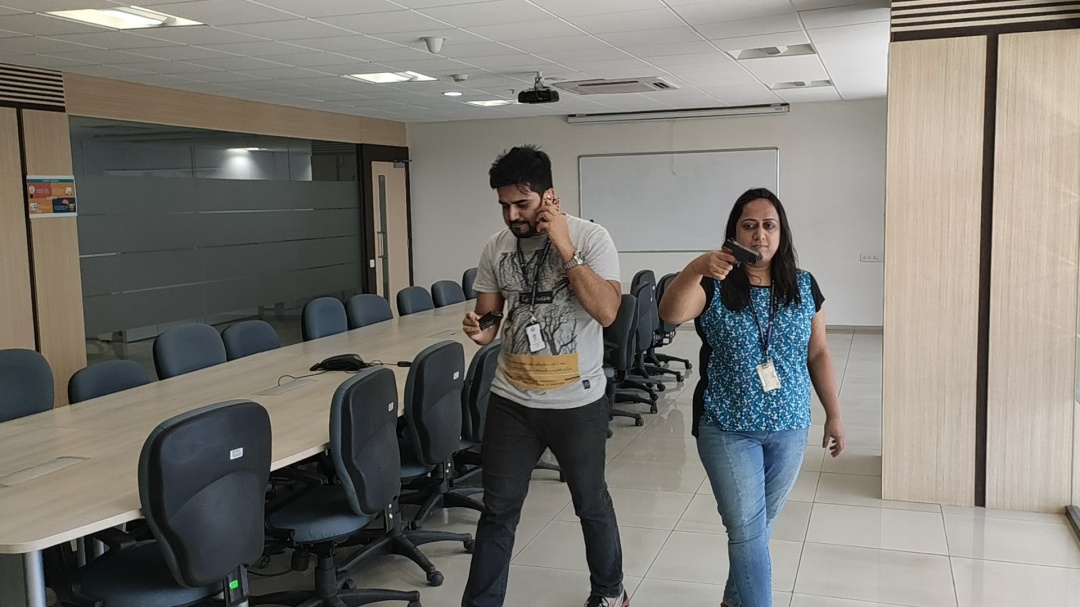gun: (720, 237, 764, 265)
